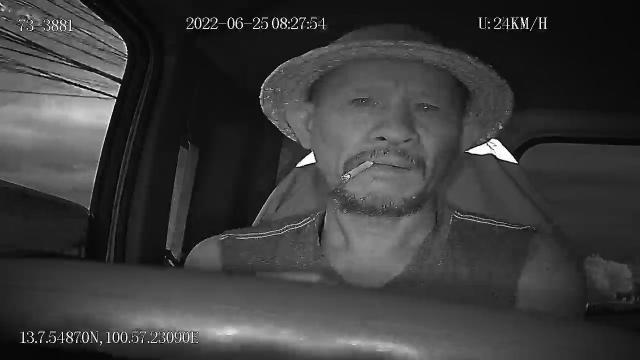SafeDriving: (344, 84, 384, 115), (406, 93, 444, 120)
Smoking: (341, 157, 373, 183)
